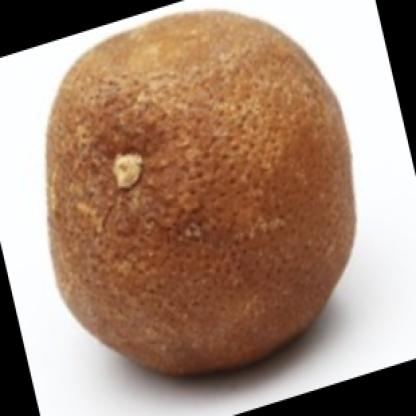rotten: (52, 14, 356, 373)
